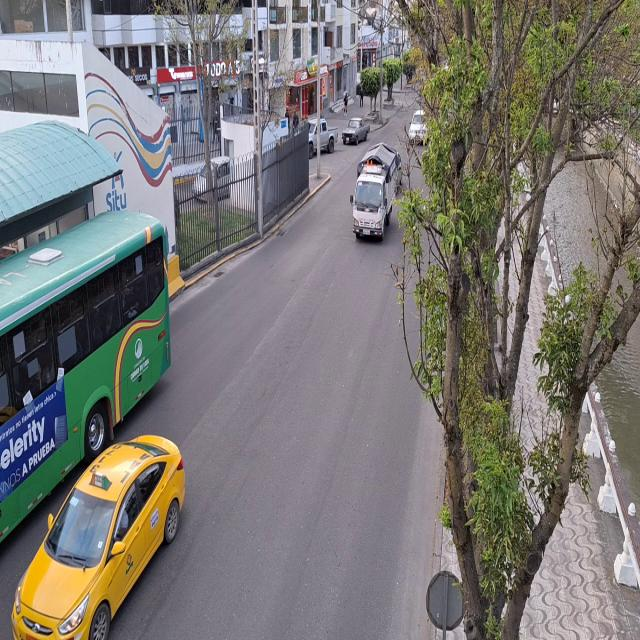BUS: (0, 211, 170, 548)
CMT: (342, 118, 369, 148)
SED: (11, 433, 187, 639)
TRUCK: (352, 161, 392, 241)
